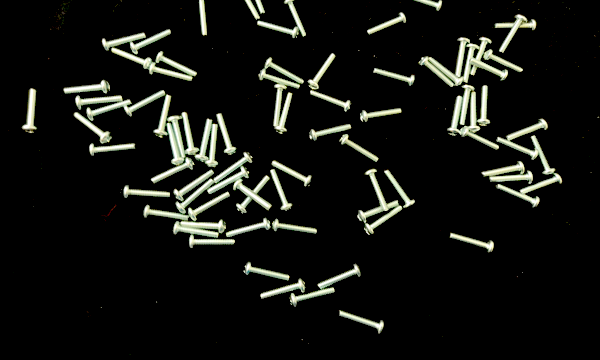longscrew: (235, 174, 272, 216), (173, 167, 216, 201), (384, 167, 417, 211), (122, 88, 167, 120), (187, 191, 232, 223), (175, 178, 215, 214), (212, 150, 255, 183), (72, 111, 113, 145), (207, 165, 252, 195), (150, 156, 197, 184), (494, 183, 541, 211), (364, 204, 405, 236), (129, 27, 175, 55), (233, 179, 273, 211), (287, 285, 338, 310), (498, 13, 528, 55), (337, 309, 385, 335), (271, 159, 314, 188), (317, 263, 363, 290), (262, 57, 306, 85), (338, 134, 380, 163), (418, 57, 456, 89), (154, 51, 199, 78), (448, 231, 496, 256), (427, 56, 465, 87), (259, 278, 308, 302), (357, 199, 402, 225), (495, 137, 540, 163), (269, 168, 294, 214), (530, 135, 558, 176), (364, 168, 390, 212), (457, 126, 501, 152), (308, 52, 338, 90), (366, 11, 408, 38), (86, 98, 134, 121), (225, 217, 273, 240), (309, 88, 353, 113), (484, 48, 526, 74), (102, 30, 148, 53), (109, 46, 153, 70), (152, 93, 174, 141), (506, 118, 550, 142), (216, 112, 239, 157), (274, 90, 296, 137), (243, 262, 292, 283), (283, 0, 309, 39), (519, 173, 563, 196), (469, 57, 509, 82), (308, 122, 353, 144), (64, 78, 113, 98), (21, 87, 41, 136), (256, 19, 300, 41), (148, 62, 194, 83), (194, 118, 215, 163), (167, 115, 188, 160), (165, 121, 186, 166), (470, 37, 493, 78), (258, 69, 302, 90), (74, 94, 125, 112), (88, 142, 138, 160), (180, 111, 200, 156), (141, 204, 190, 222), (271, 219, 320, 237), (373, 68, 417, 88), (359, 106, 404, 125), (481, 160, 526, 179), (172, 221, 221, 238), (271, 83, 289, 129), (494, 18, 539, 36), (458, 83, 476, 128), (122, 185, 172, 201), (187, 235, 237, 251), (446, 94, 464, 138), (179, 218, 228, 234), (205, 122, 221, 170), (489, 170, 535, 186), (455, 36, 472, 79), (462, 43, 480, 83), (193, 0, 211, 38), (466, 91, 482, 133), (477, 84, 492, 128), (232, 0, 261, 22), (401, 0, 444, 14), (242, 0, 267, 16)
